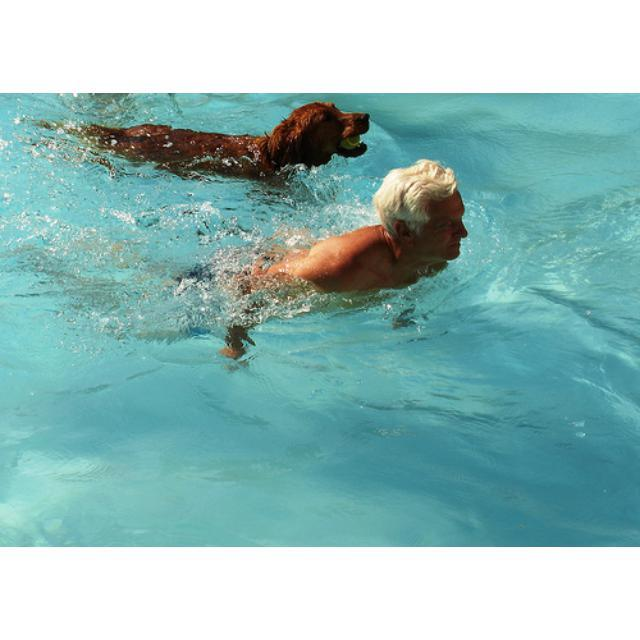human: (224, 156, 471, 365)
